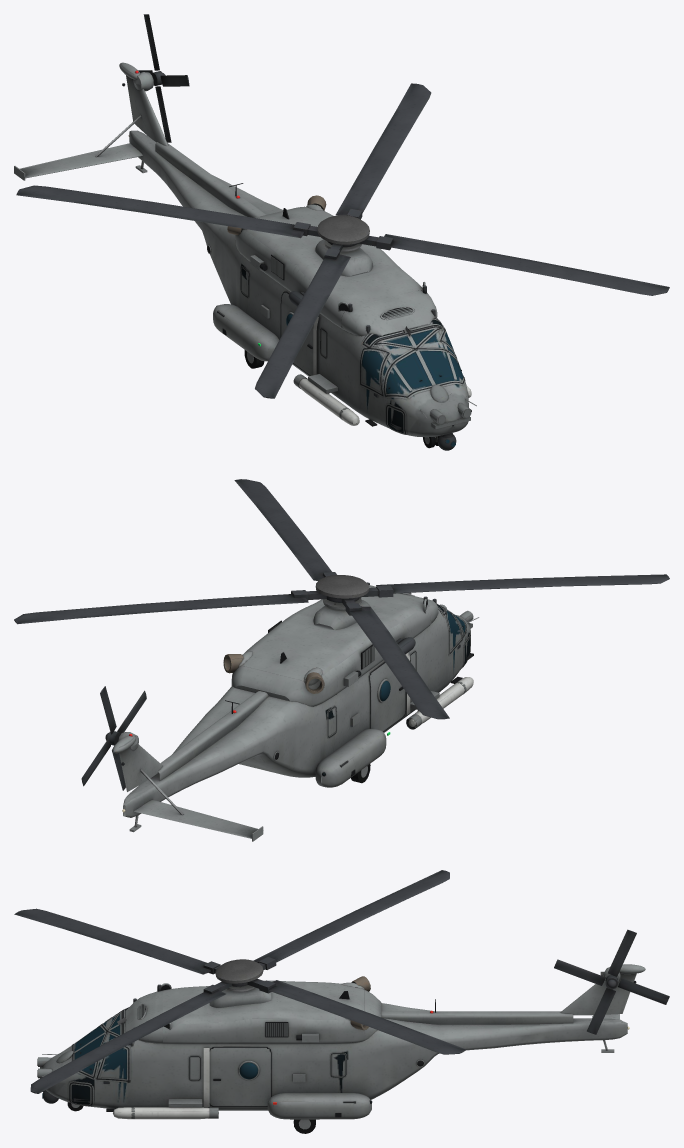
Rendered from veh_nh90.glb.
3 renders of one model, top to bottom at view 1: azimuth 30°, elevation 25°; view 2: azimuth 150°, elevation 25°; view 3: azimuth 270°, elevation 25°, orthographic. The views are drawn at different scales.
Visible parts, largest first — view 1: veh_nh90; view 2: veh_nh90; view 3: veh_nh90.
Part boxes in pixels (bbox=[...]): veh_nh90: bbox=[14, 14, 669, 450]; veh_nh90: bbox=[14, 479, 669, 841]; veh_nh90: bbox=[14, 870, 669, 1133].
Bounding box in the file's own units: 12.19 × 5.54 × 17.59.
Materials: 1 (1 with a texture image).
